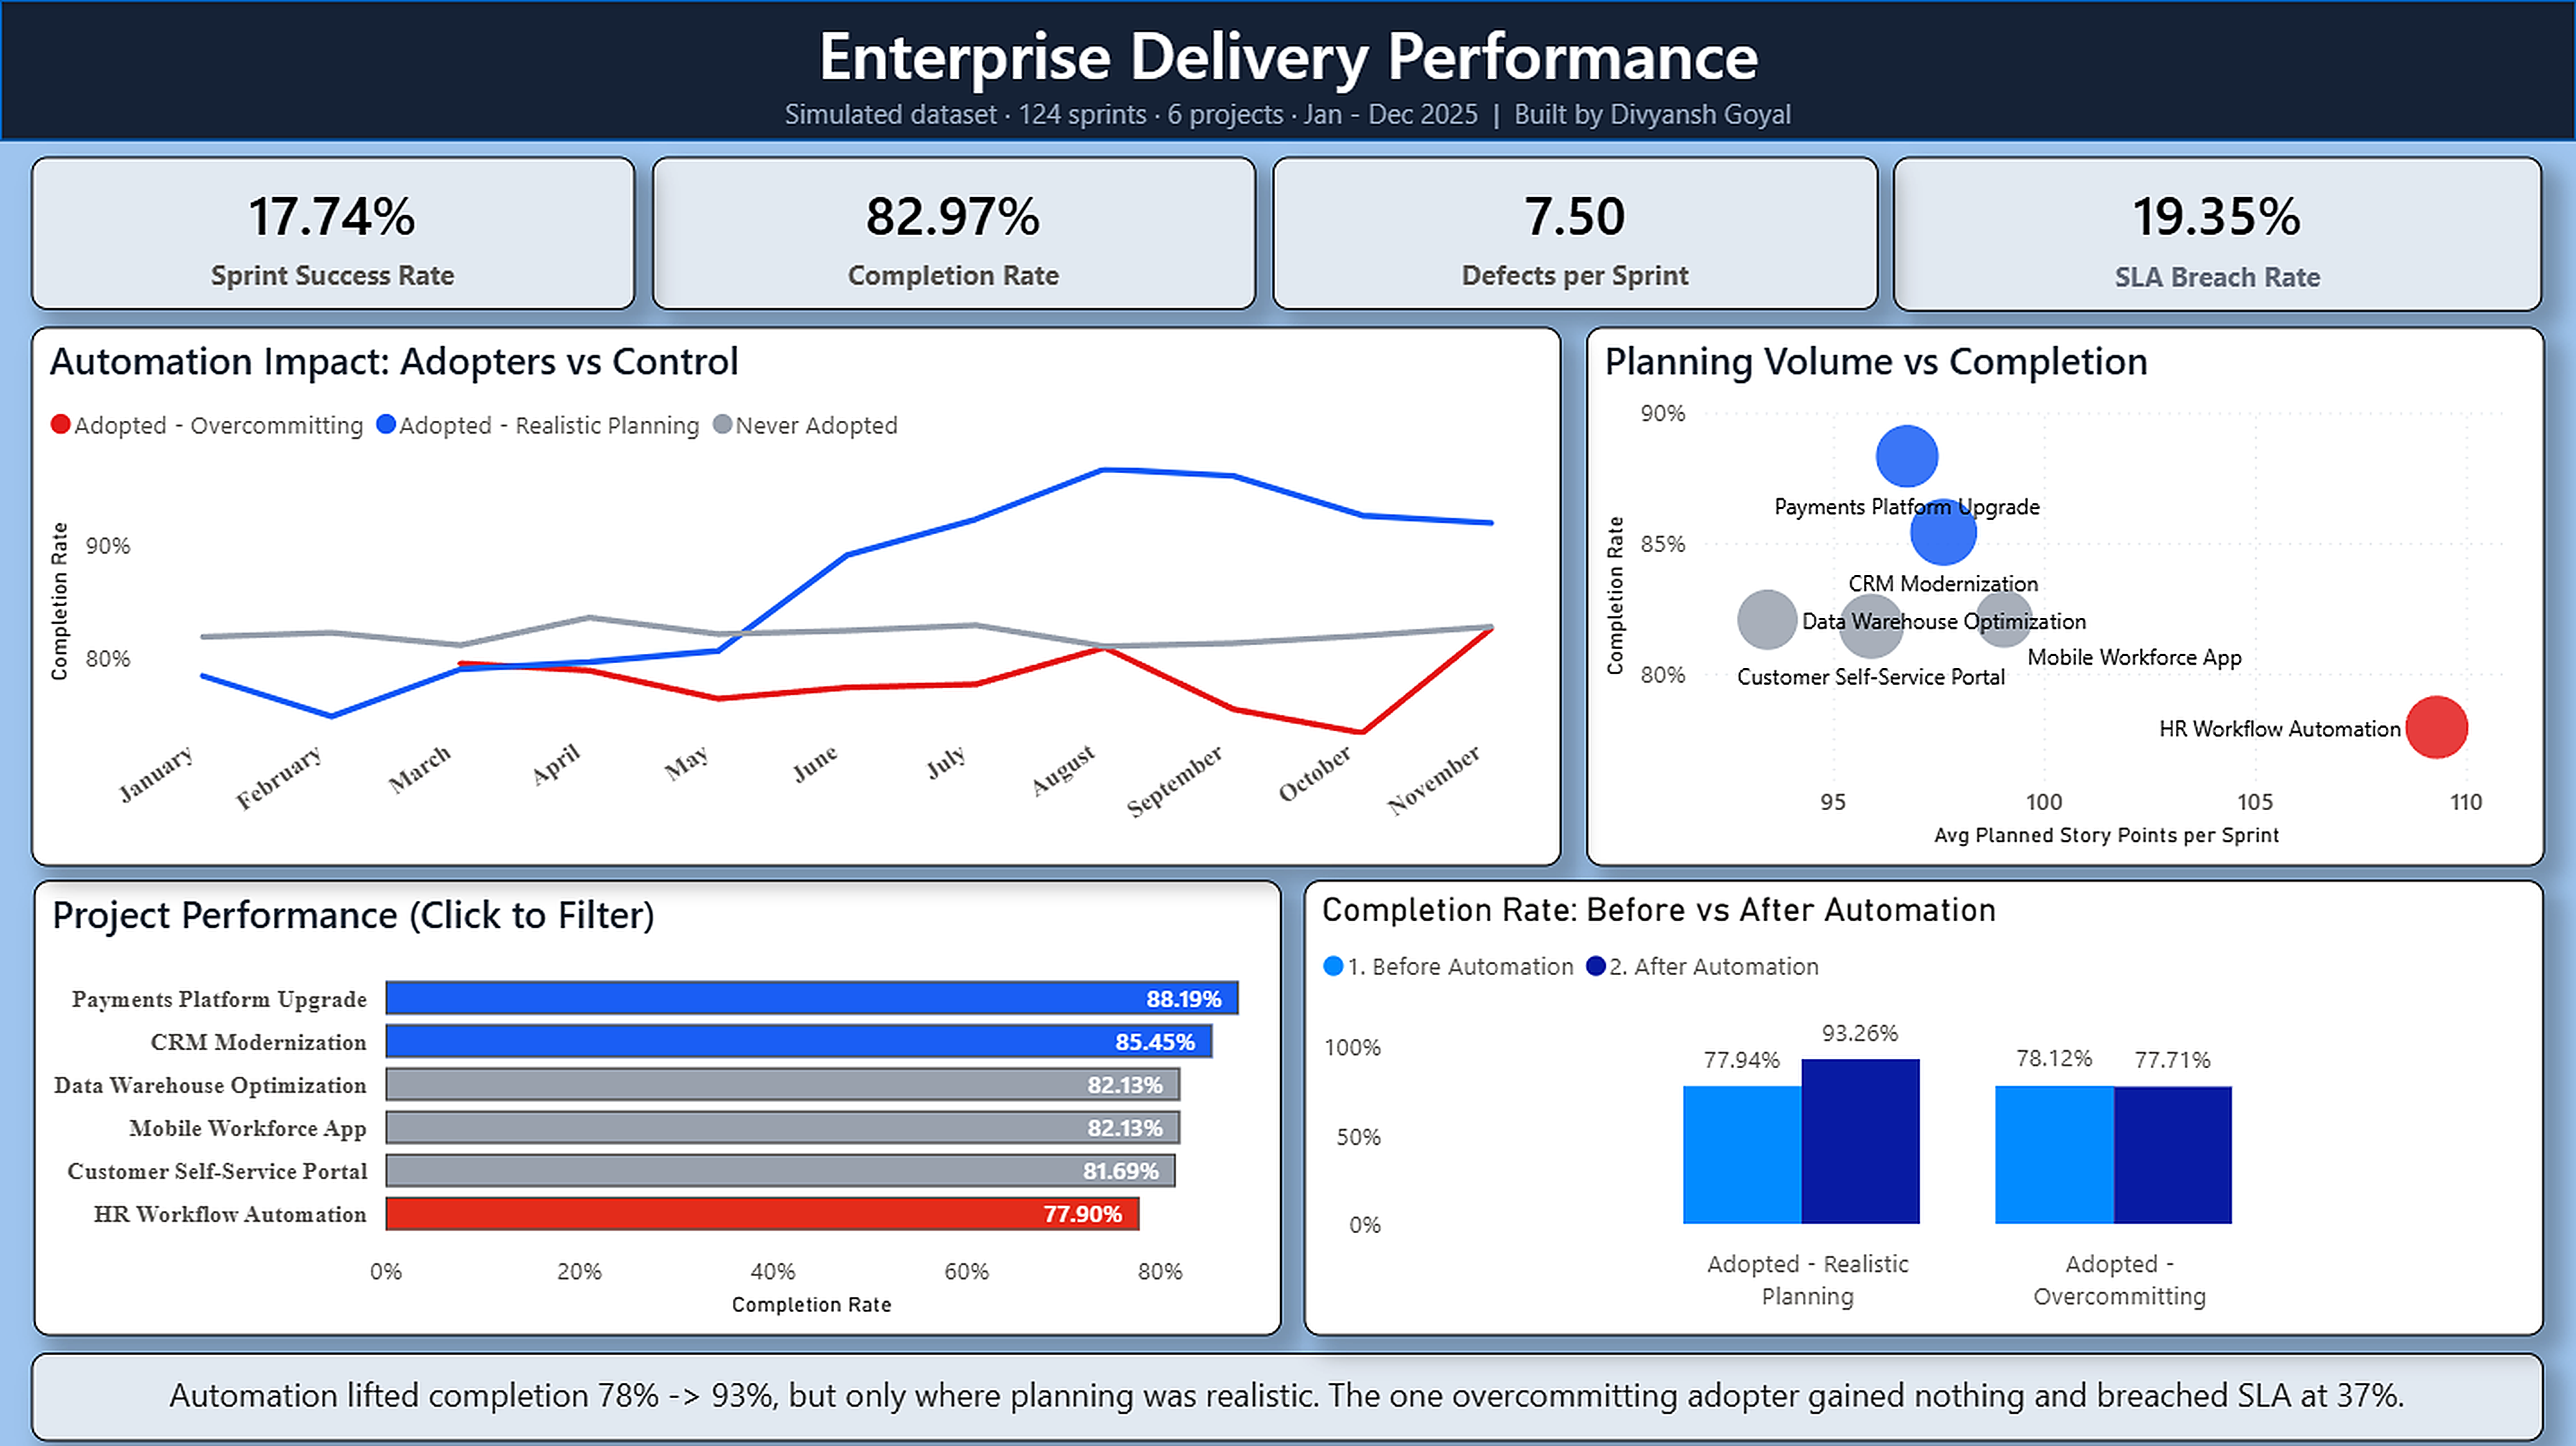

The dashboard page shown, as its layout file describes it:
{"tool":"powerbi","page":{"name":"Delivery Performance","canvas":[1280,720],"ordinal":0},"visuals":[{"type":"card","fields":{"Values":["Automation.Completion Rate"]},"box":[324,78,300,76],"z":0},{"type":"card","fields":{"Values":["Sprints.SLA Breach Rate"]},"box":[940.5,77.9,322.8,76.5],"z":1000},{"type":"card","fields":{"Values":["Automation.Defects per Sprint"]},"box":[632,78,300.8,76],"z":2000},{"type":"barChart","title":"Project Performance (Click to Filter)","fields":{"Category":["Projects.Project_Name"],"Y":["Automation.Completion Rate"]},"box":[16.7,438,620,226],"z":3000},{"type":"scatterChart","title":"Planning Volume vs Completion","fields":{"Y":["Avg(Sprints.Sprint_Completion_Rate)"],"Series":["Projects.Project_Name"],"Size":["Sum(Sprints.Planned_Story_Points)"],"X":["Avg(Sprints.Planned_Story_Points)"]},"box":[788,162,476,268],"z":4000},{"type":"card","fields":{"Values":["Automation.Sprint Success Rate"]},"box":[16,78,300,76],"z":5000},{"type":"lineChart","title":"Automation Impact: Adopters vs Control","fields":{"Y":["Automation.Completion Rate"],"Series":["Projects.Adoption_Group"],"Category":["Sprints.Sprint_Start.Variation.Date Hierarchy.Month"]},"box":[16,162,760,268],"z":6000},{"type":"textbox","box":[16,672,1248,44],"z":7000},{"type":"shape","box":[0,0,1280,70],"z":8000},{"type":"textbox","box":[0,0,1280,70],"z":9000},{"type":"clusteredColumnChart","title":"Completion Rate: Before vs After Automation","fields":{"Category":["Projects.Adoption_Group"],"Y":["Automation.Completion Rate"],"Series":["Sprints.Automation_Phase"]},"box":[648.3,438,616.3,226],"z":10000},{"type":"textbox","box":[0,42.2,1280,27.7],"z":11000}]}

Visuals, with their boxes in screenshot pixels (x1, y1, x2, y2), scaled from the page's 1280x720 canvas onto the 2576x1446 screenshot:
card - Automation.Completion Rate: [652,157,1256,309]
card - Sprints.SLA Breach Rate: [1893,156,2542,310]
card - Automation.Defects per Sprint: [1272,157,1877,309]
"Project Performance (Click to Filter)" barChart: [34,880,1282,1333]
"Planning Volume vs Completion" scatterChart: [1586,325,2544,864]
card - Automation.Sprint Success Rate: [32,157,636,309]
"Automation Impact: Adopters vs Control" lineChart: [32,325,1562,864]
textbox: [32,1350,2544,1438]
shape: [0,0,2575,141]
textbox: [0,0,2575,141]
"Completion Rate: Before vs After Automation" clusteredColumnChart: [1304,880,2545,1333]
textbox: [0,85,2575,141]
